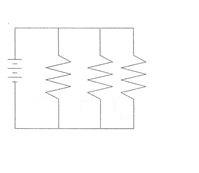resistor: (118, 46, 156, 110), (78, 45, 116, 108), (39, 48, 76, 105)
